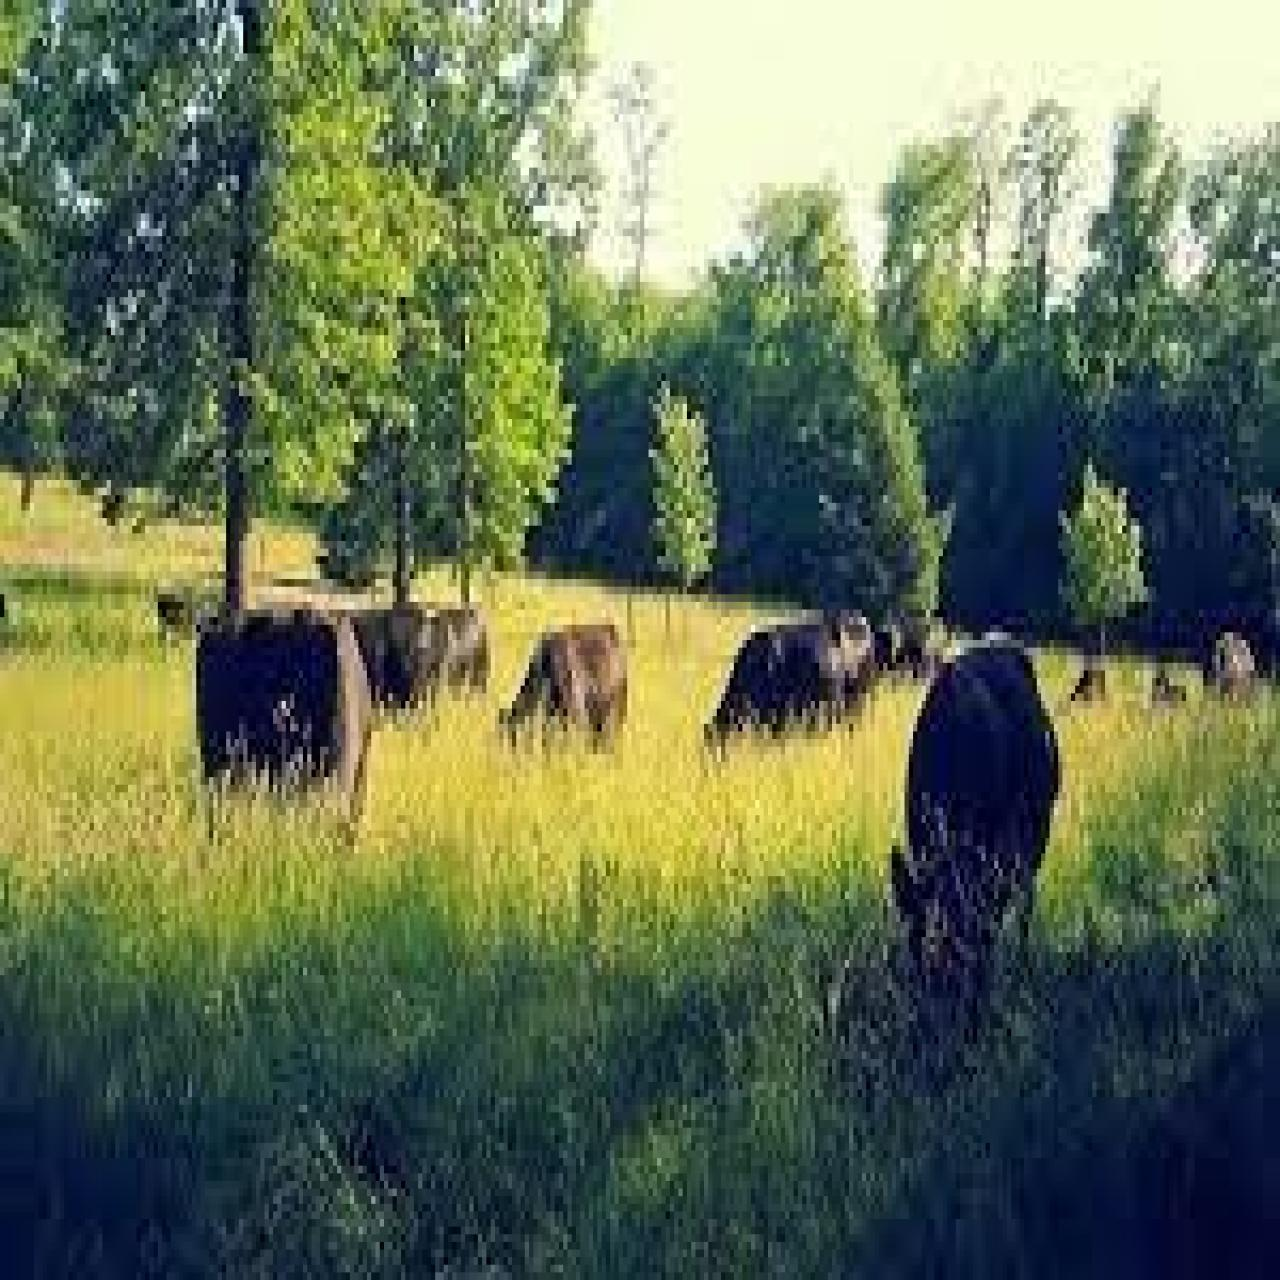cow: (890, 644, 1064, 1009), (190, 598, 382, 826), (715, 606, 872, 743), (347, 602, 489, 747), (497, 613, 638, 750), (1205, 625, 1265, 701), (1061, 652, 1119, 720), (1145, 655, 1197, 716)
